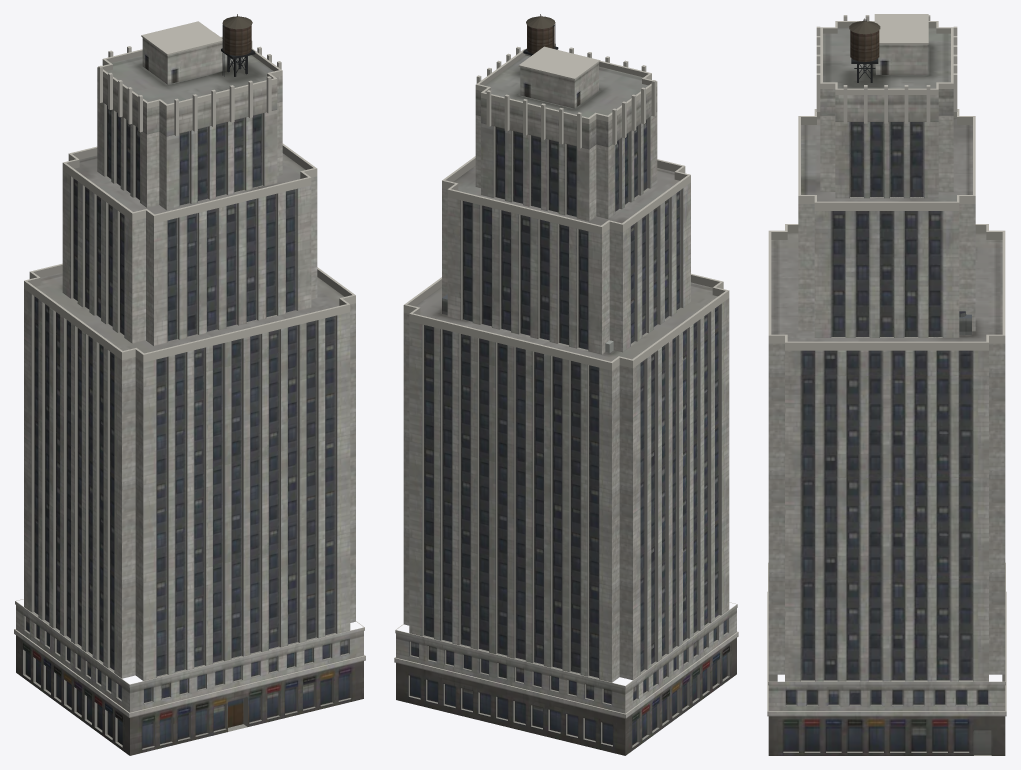
File: nyc_deco_b.glb
3 views of the same model, side by side, from view 1: azimuth 30°, elevation 25°; view 2: azimuth 150°, elevation 25°; view 3: azimuth 270°, elevation 25° (orthographic). The views are drawn at different scales.
Visible parts, largest first — view 1: nyc_deco_b; view 2: nyc_deco_b; view 3: nyc_deco_b.
Boxes of the visible parts, bbox=[...] form: nyc_deco_b: bbox=[14, 14, 365, 755]; nyc_deco_b: bbox=[394, 14, 738, 755]; nyc_deco_b: bbox=[767, 14, 1006, 755].
Bounding box in the file's own units: 38.39 × 104 × 32.4.
Materials: 1 (1 with a texture image).
